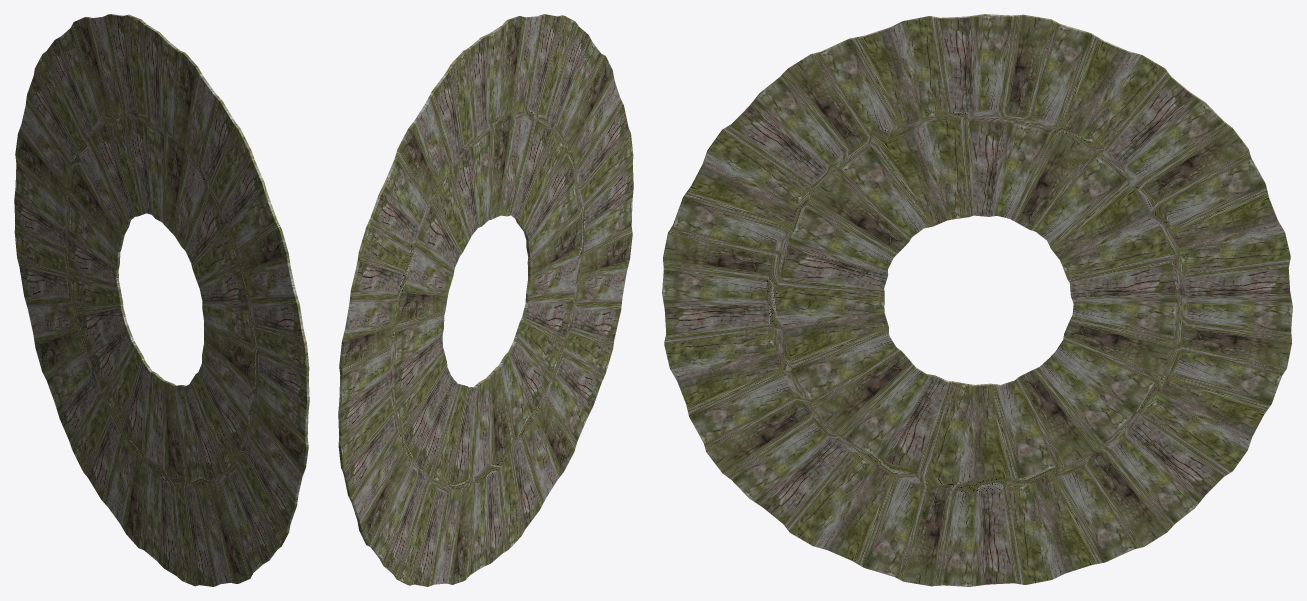
Rendered from CIRCLE-RAMP.fbx.
3 renders of one model, left to right at view 1: azimuth 30°, elevation 25°; view 2: azimuth 150°, elevation 25°; view 3: azimuth 270°, elevation 25°, orthographic. The views are drawn at different scales.
Visible parts, largest first — view 1: Circle_ramp; view 2: Circle_ramp; view 3: Circle_ramp.
Boxes of the visible parts, left/top/right/bottom form: Circle_ramp: left=14, top=14, right=309, bottom=586; Circle_ramp: left=338, top=14, right=633, bottom=586; Circle_ramp: left=662, top=14, right=1292, bottom=586.
Bounding box in the file's own units: 1.21 × 244 × 244.
